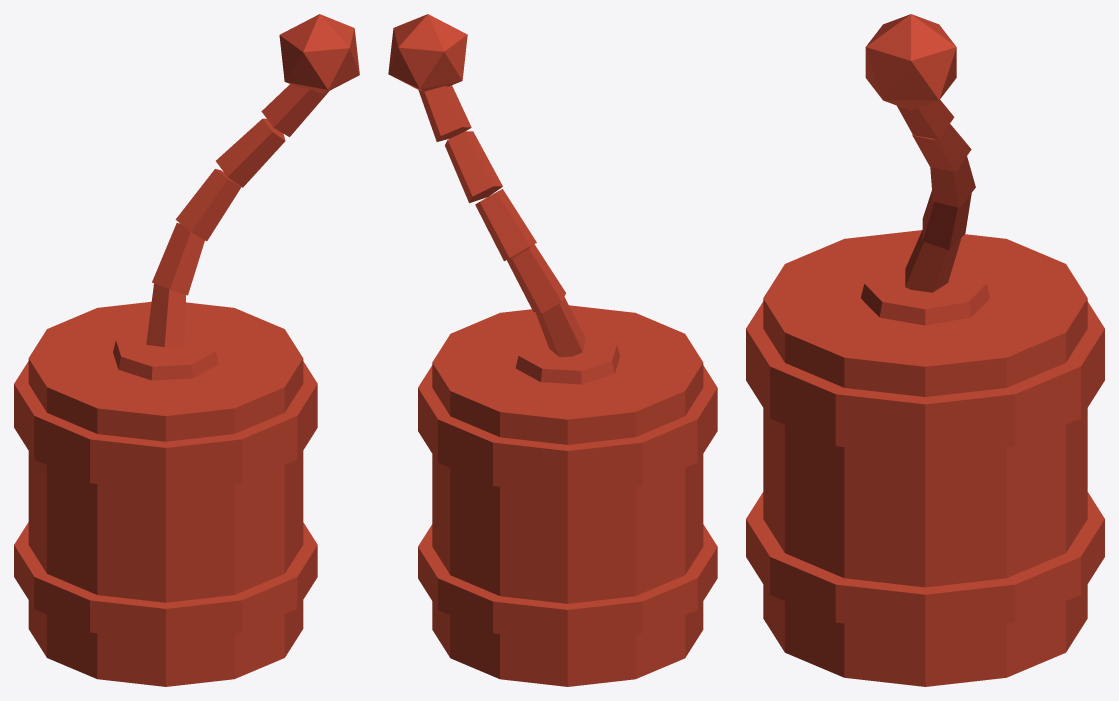
File: charge.glb
The picture shows the model from 3 angles, left to right: view 1: azimuth 30°, elevation 25°; view 2: azimuth 150°, elevation 25°; view 3: azimuth 270°, elevation 25°; orthographic projection. The views are drawn at different scales.
Visible parts, largest first — view 1: charge; view 2: charge; view 3: charge.
Boxes of the visible parts, left/top/right/bottom form: charge: left=14, top=14, right=359, bottom=686; charge: left=388, top=14, right=717, bottom=686; charge: left=746, top=14, right=1104, bottom=686.
Size of the model in its own units: 0.2246 by 0.3985 by 0.188.
